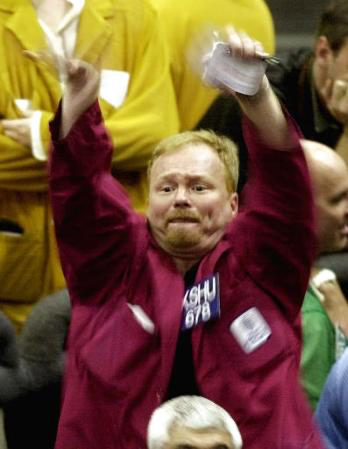Face: (146, 146, 233, 261), (304, 148, 348, 261)
